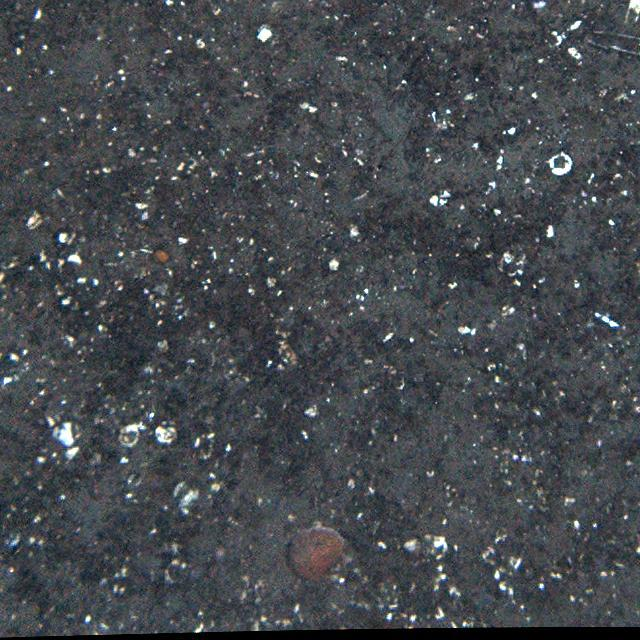scallop: (289, 526, 347, 584)
